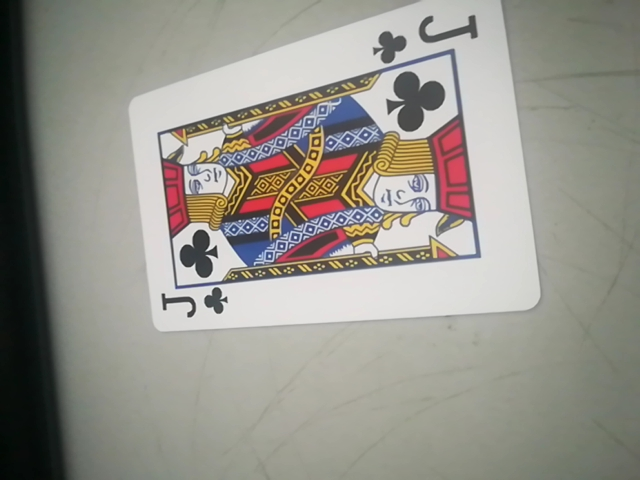mh j: (124, 2, 539, 335)
